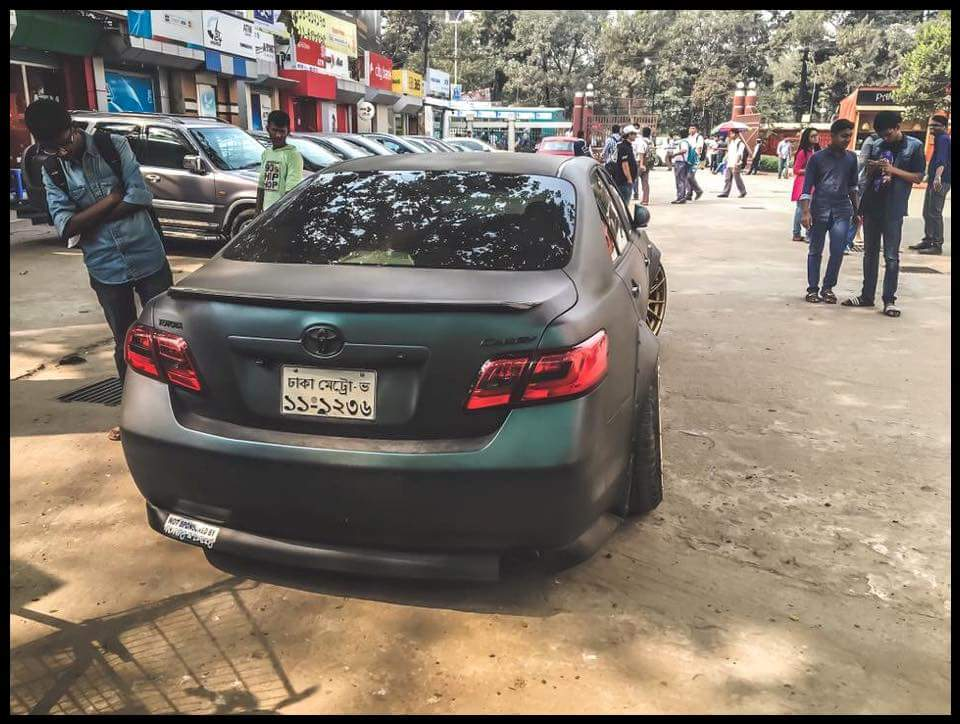registration_plate: (280, 364, 378, 424)
